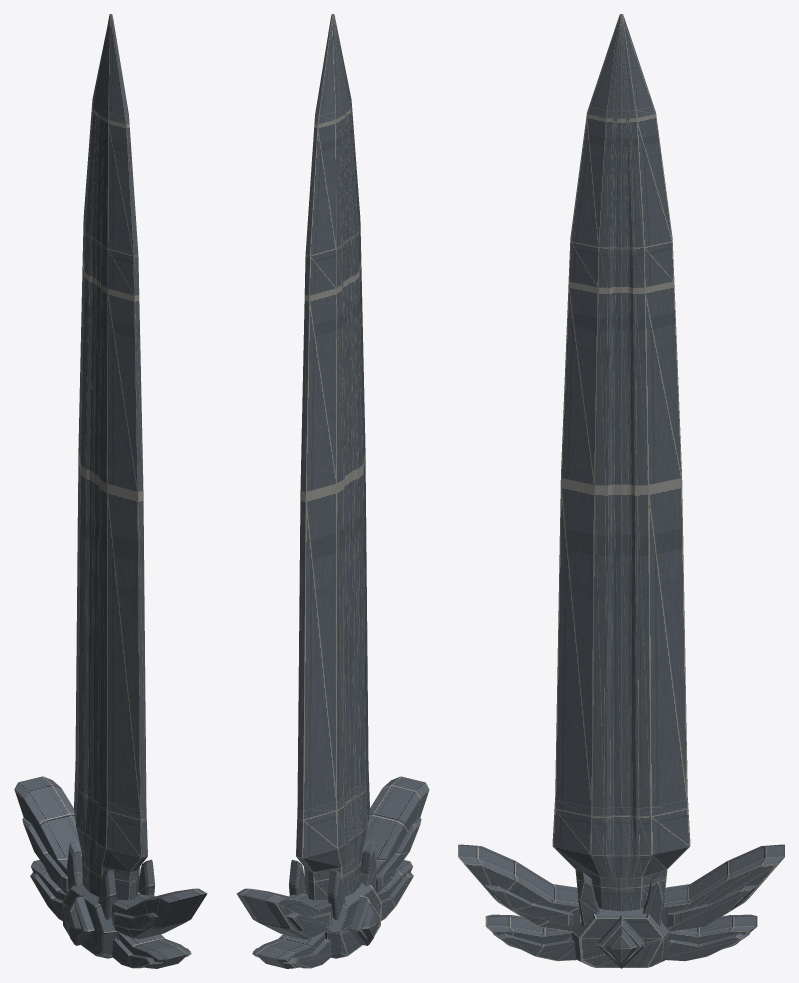
Rendered from workpiece_zhuji_baiqing_lingyun_sword_tempered.obj.
3 renders of one model, left to right at view 1: azimuth 30°, elevation 25°; view 2: azimuth 150°, elevation 25°; view 3: azimuth 270°, elevation 25°, orthographic.
Visible parts, largest first — view 1: geometry; view 2: geometry; view 3: geometry.
Part boxes in pixels (x1,y1,x2,y2): geometry: (14, 14, 207, 968); geometry: (236, 14, 429, 968); geometry: (458, 14, 784, 968).
Bounding box in the file's own units: 0.1199 × 1.25 × 0.3913.
